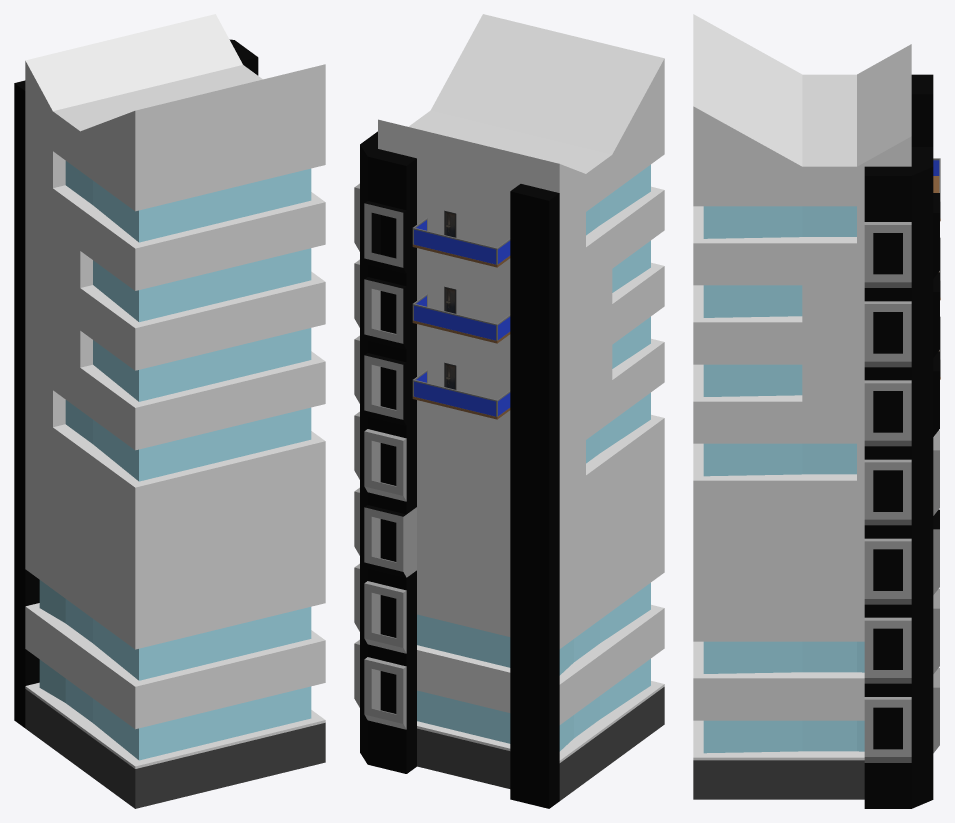
The model's file is skyrise_cubed.fbx.
3 views of the same model, side by side, from view 1: azimuth 30°, elevation 25°; view 2: azimuth 150°, elevation 25°; view 3: azimuth 270°, elevation 25° (orthographic). The views are drawn at different scales.
Visible parts, largest first — view 1: skyrise_cubed; view 2: skyrise_cubed; view 3: skyrise_cubed.
Part boxes in pixels (left/top/right/bottom): skyrise_cubed: left=14, top=14, right=325, bottom=808; skyrise_cubed: left=354, top=14, right=664, bottom=808; skyrise_cubed: left=693, top=14, right=940, bottom=808.
Bounding box in the file's own units: 1696 × 5259 × 1700.
